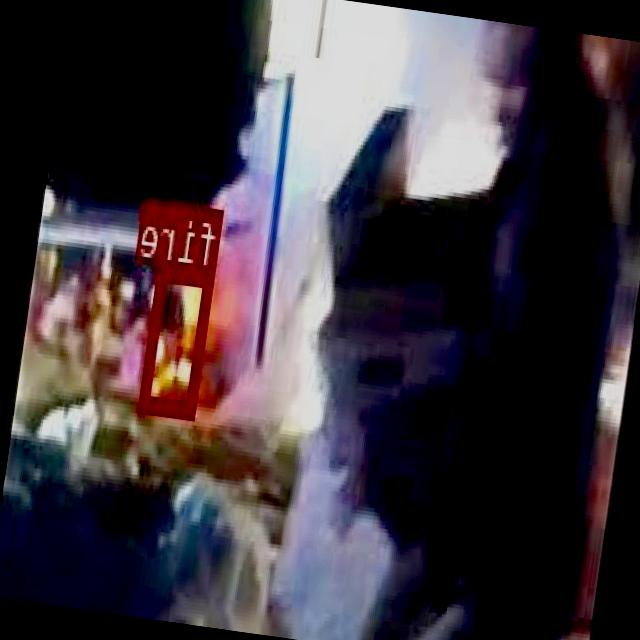fire: (140, 260, 218, 418)
